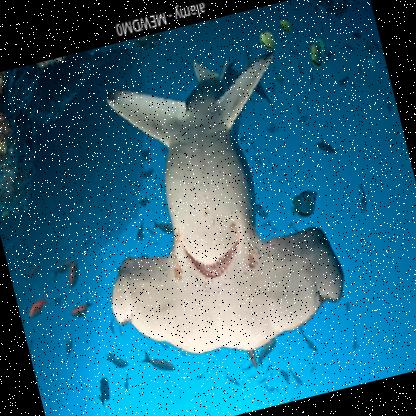hammerhead_Shark: (52, 26, 378, 400)
